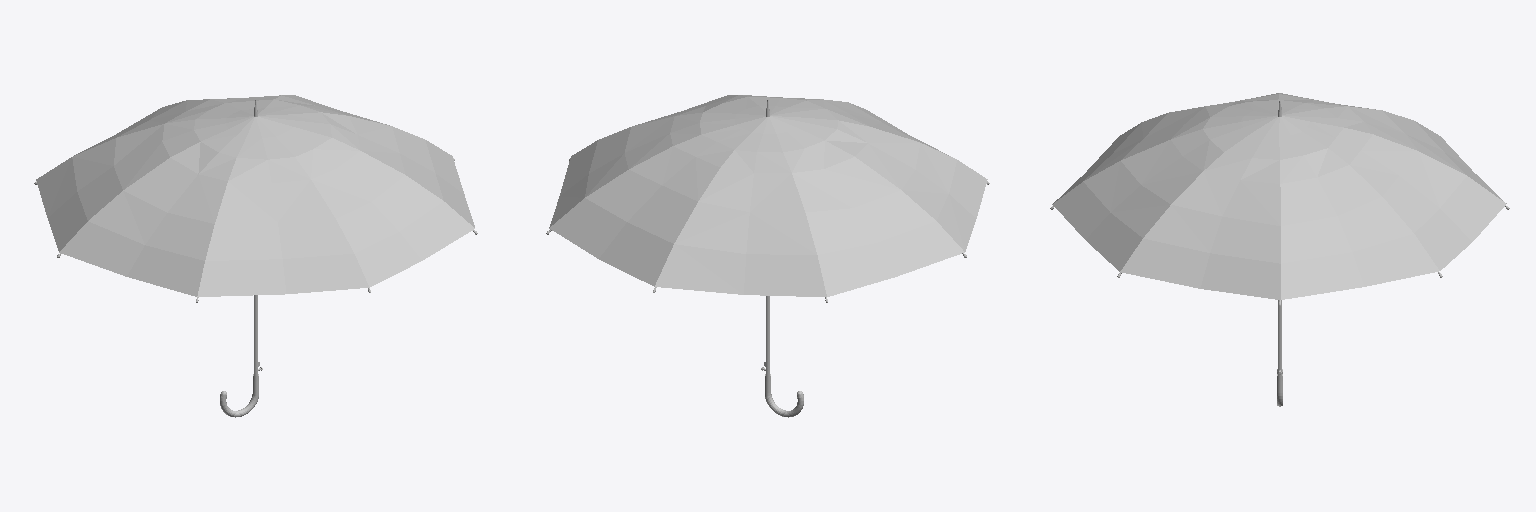
Rendered from umbrella.obj.
The picture shows the model from 3 angles: view 1: azimuth 30°, elevation 25°; view 2: azimuth 150°, elevation 25°; view 3: azimuth 270°, elevation 25°; orthographic projection.
Parts seen in each view (by area): view 1: Umbrella; view 2: Umbrella; view 3: Umbrella.
Part boxes in pixels (x1,y1,x2,y2): Umbrella: (34, 95, 477, 417); Umbrella: (546, 95, 989, 417); Umbrella: (1050, 93, 1509, 406).
Bounding box in the file's own units: 52.3 × 39.38 × 52.3.